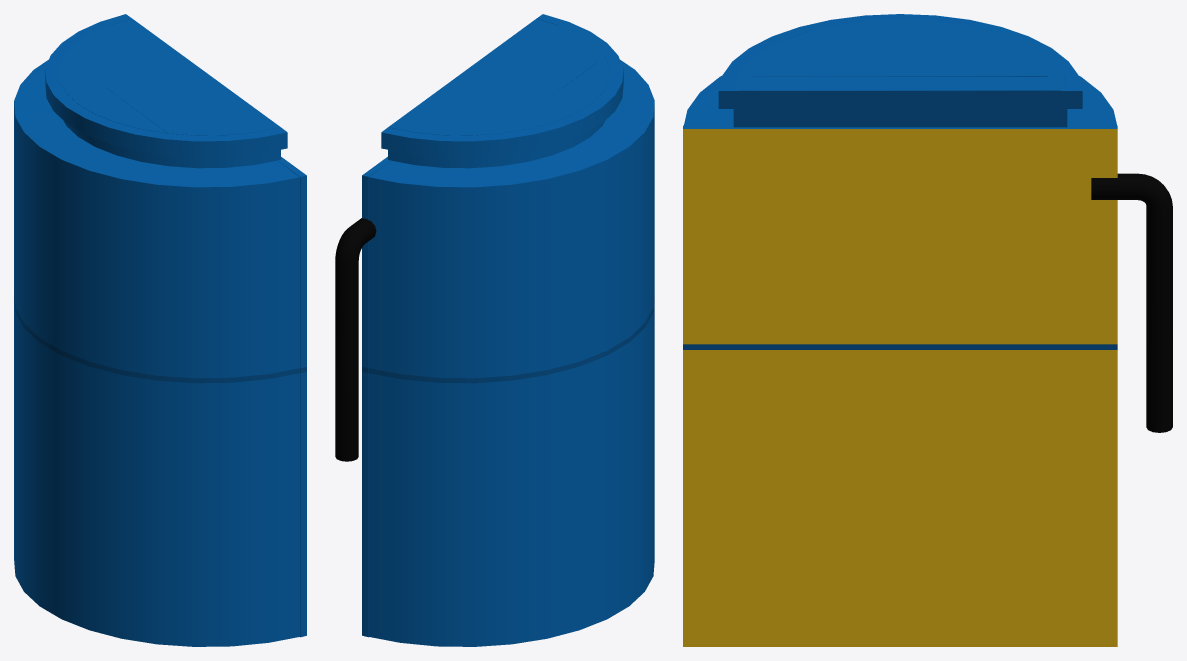
File: Pipa Slurry (Outlet).fbx
3 renders of one model, left to right at view 1: azimuth 30°, elevation 25°; view 2: azimuth 150°, elevation 25°; view 3: azimuth 270°, elevation 25°, orthographic. The views are drawn at different scales.
Visible parts, largest first — view 1: 1/2 Digester, 1/2 Plane; view 2: 1/2 Digester, Pipa Slurry 1/2, 1/2 Plane; view 3: 1/2 Plane, 1/2 Digester, Pipa Slurry 1/2.
Boxes of the visible parts, x1,y1,x2,y2 form: 1/2 Digester: [14, 14, 299, 646]; 1/2 Plane: [127, 103, 306, 637]; 1/2 Digester: [365, 14, 654, 646]; Pipa Slurry 1/2: [335, 218, 376, 461]; 1/2 Plane: [362, 156, 390, 637]; 1/2 Plane: [683, 125, 1117, 646]; 1/2 Digester: [684, 14, 1116, 127]; Pipa Slurry 1/2: [1091, 173, 1172, 432].
Bounding box in the file's own units: 133 × 352 × 282.
